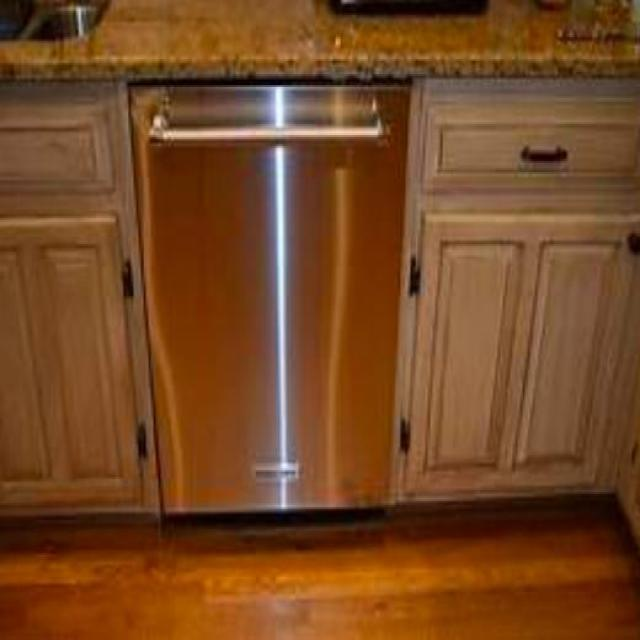dishwasher: (127, 79, 411, 507)
